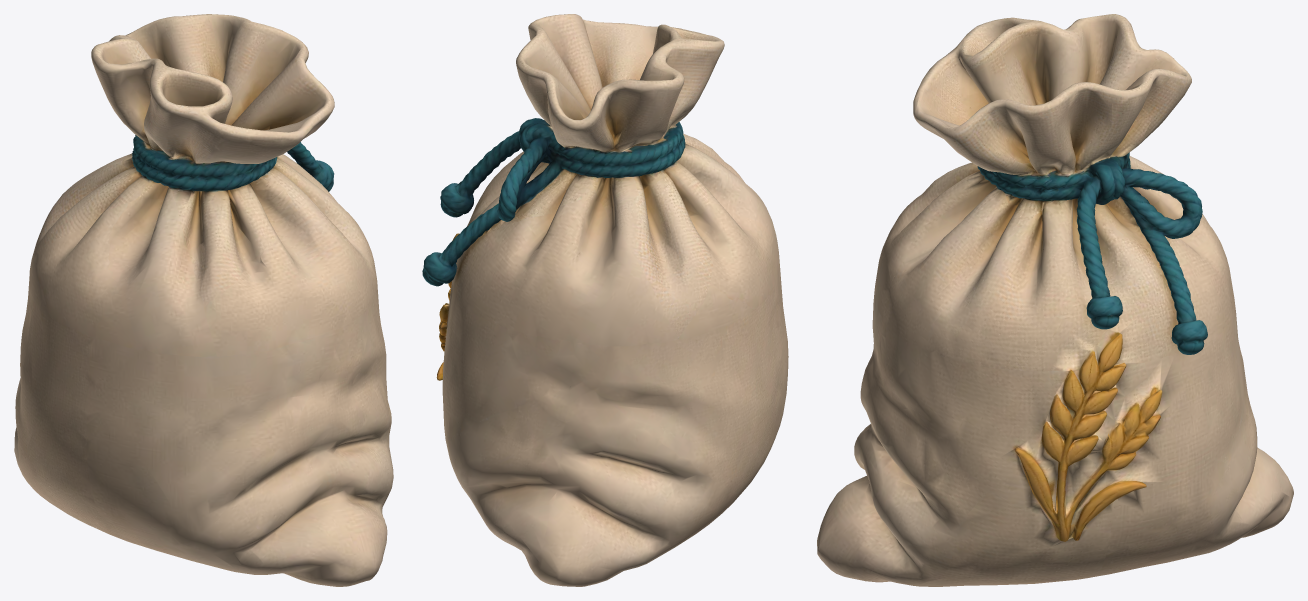
File: sack.glb
3 renders of one model, left to right at view 1: azimuth 30°, elevation 25°; view 2: azimuth 150°, elevation 25°; view 3: azimuth 270°, elevation 25°, orthographic. The views are drawn at different scales.
Visible parts, largest first — view 1: tripo_node_e34a979e-52a4-4400-87d3-baa498a1e252; view 2: tripo_node_e34a979e-52a4-4400-87d3-baa498a1e252; view 3: tripo_node_e34a979e-52a4-4400-87d3-baa498a1e252.
Boxes of the visible parts, x1=… form: tripo_node_e34a979e-52a4-4400-87d3-baa498a1e252: x1=14, y1=14, x2=393, y2=586; tripo_node_e34a979e-52a4-4400-87d3-baa498a1e252: x1=422, y1=14, x2=788, y2=586; tripo_node_e34a979e-52a4-4400-87d3-baa498a1e252: x1=817, y1=14, x2=1293, y2=586.
Size of the model in its own units: 0.6905 by 0.9999 by 0.8683.
Materials: 1 (1 with a texture image).
